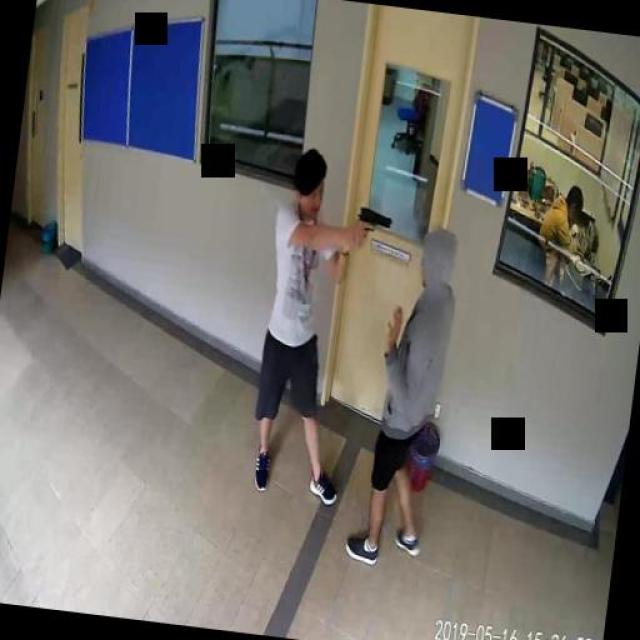gun: (355, 202, 393, 250)
